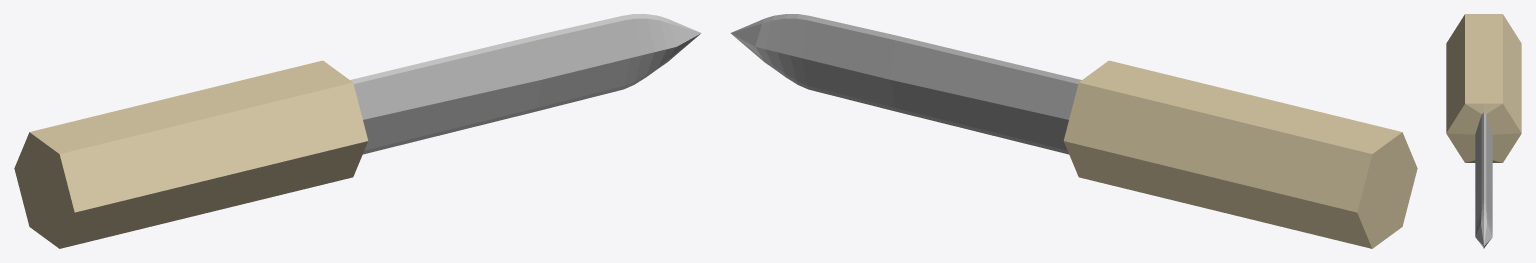
The model's file is Makiri knife.fbx.
3 renders of one model, left to right at view 1: azimuth 30°, elevation 25°; view 2: azimuth 150°, elevation 25°; view 3: azimuth 270°, elevation 25°, orthographic. The views are drawn at different scales.
Visible parts, largest first — view 1: Makiri; view 2: Makiri; view 3: Makiri.
Boxes of the visible parts, x1,y1,x2,y2 form: Makiri: [14, 14, 701, 248]; Makiri: [730, 14, 1417, 248]; Makiri: [1446, 14, 1521, 248].
Bounding box in the file's own units: 36.12 × 4.98 × 5.75.
